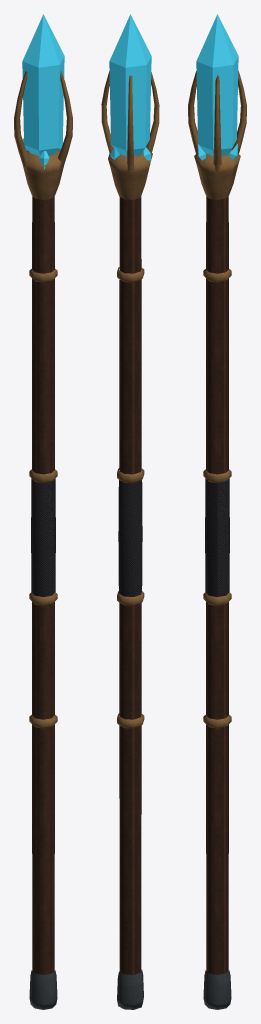
The model's file is crystal-staff.lod2.glb.
The picture shows the model from 3 angles, left to right: view 1: azimuth 90°, elevation 25°; view 2: azimuth 150°, elevation 25°; view 3: azimuth 270°, elevation 25°; orthographic projection.
Parts seen in each view (by area): view 1: wood / oiled hardwood, crystal / faceted crystal, bronze / cast bronze with patina, cord / waxed silk cord wrap, darksteel / oil-blackened fittings; view 2: wood / oiled hardwood, crystal / faceted crystal, bronze / cast bronze with patina, cord / waxed silk cord wrap, darksteel / oil-blackened fittings; view 3: wood / oiled hardwood, crystal / faceted crystal, bronze / cast bronze with patina, cord / waxed silk cord wrap, darksteel / oil-blackened fittings.
Part boxes in pixels (x1,y1,x2,y2): wood / oiled hardwood: [32, 196, 54, 974]; crystal / faceted crystal: [22, 14, 64, 169]; bronze / cast bronze with patina: [14, 70, 72, 728]; cord / waxed silk cord wrap: [31, 478, 55, 596]; darksteel / oil-blackened fittings: [29, 970, 57, 1009]; wood / oiled hardwood: [119, 196, 141, 974]; crystal / faceted crystal: [109, 14, 151, 164]; bronze / cast bronze with patina: [101, 71, 159, 728]; cord / waxed silk cord wrap: [118, 480, 142, 596]; darksteel / oil-blackened fittings: [117, 969, 143, 1009]; wood / oiled hardwood: [206, 196, 228, 974]; crystal / faceted crystal: [196, 14, 238, 160]; bronze / cast bronze with patina: [188, 71, 246, 728]; cord / waxed silk cord wrap: [205, 478, 229, 596]; darksteel / oil-blackened fittings: [203, 970, 231, 1009].
Bounding box in the file's own units: 0.0925 × 1.78 × 0.0957.
5 materials, 4 textured.
